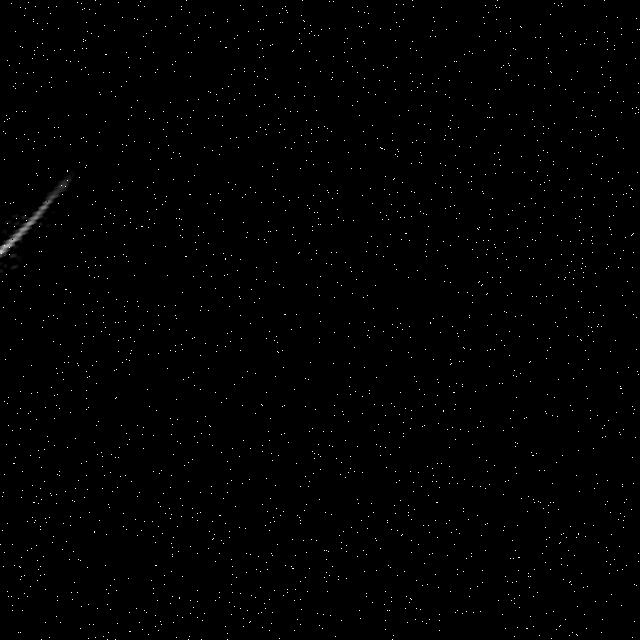cat: (0, 76, 102, 640)
